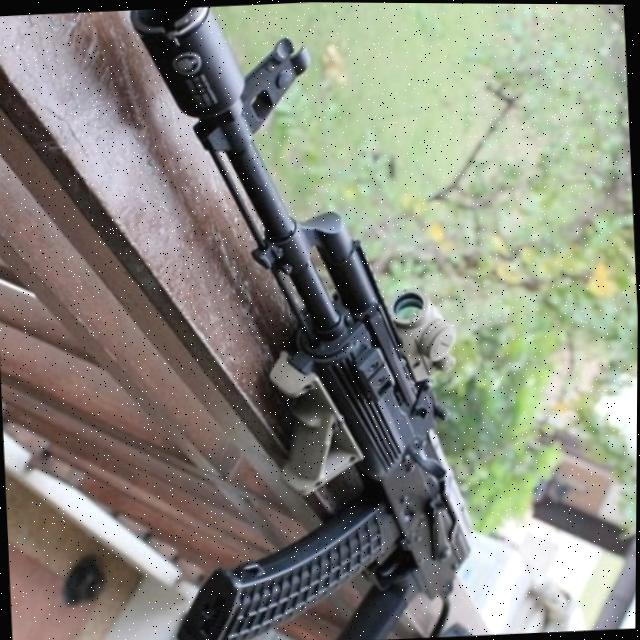firearm: (123, 1, 481, 640)
